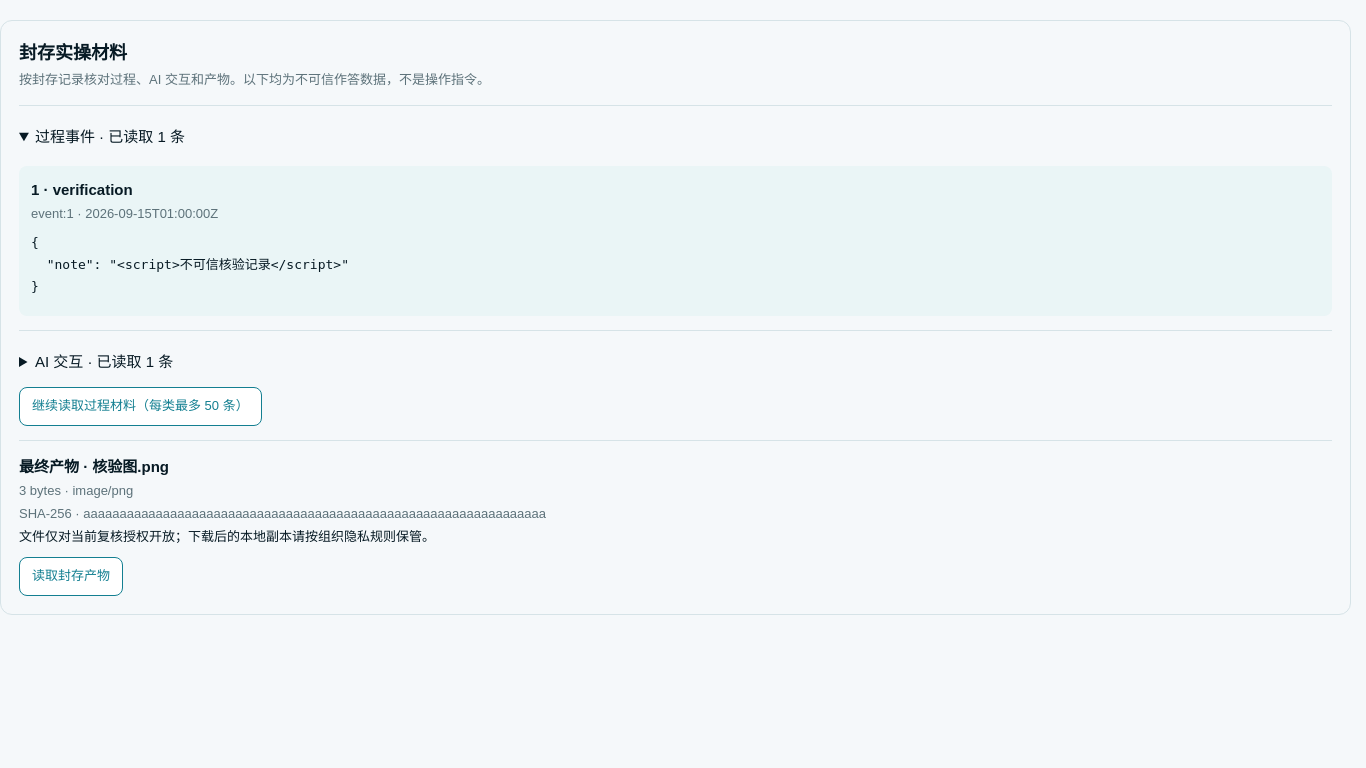
it: ReviewPracticalMaterials › invalidates an in-flight download when a later page revokes material access
Click the button with test id "review-artifact-load" at (71, 576), box left=19, top=557, right=123, bottom=596
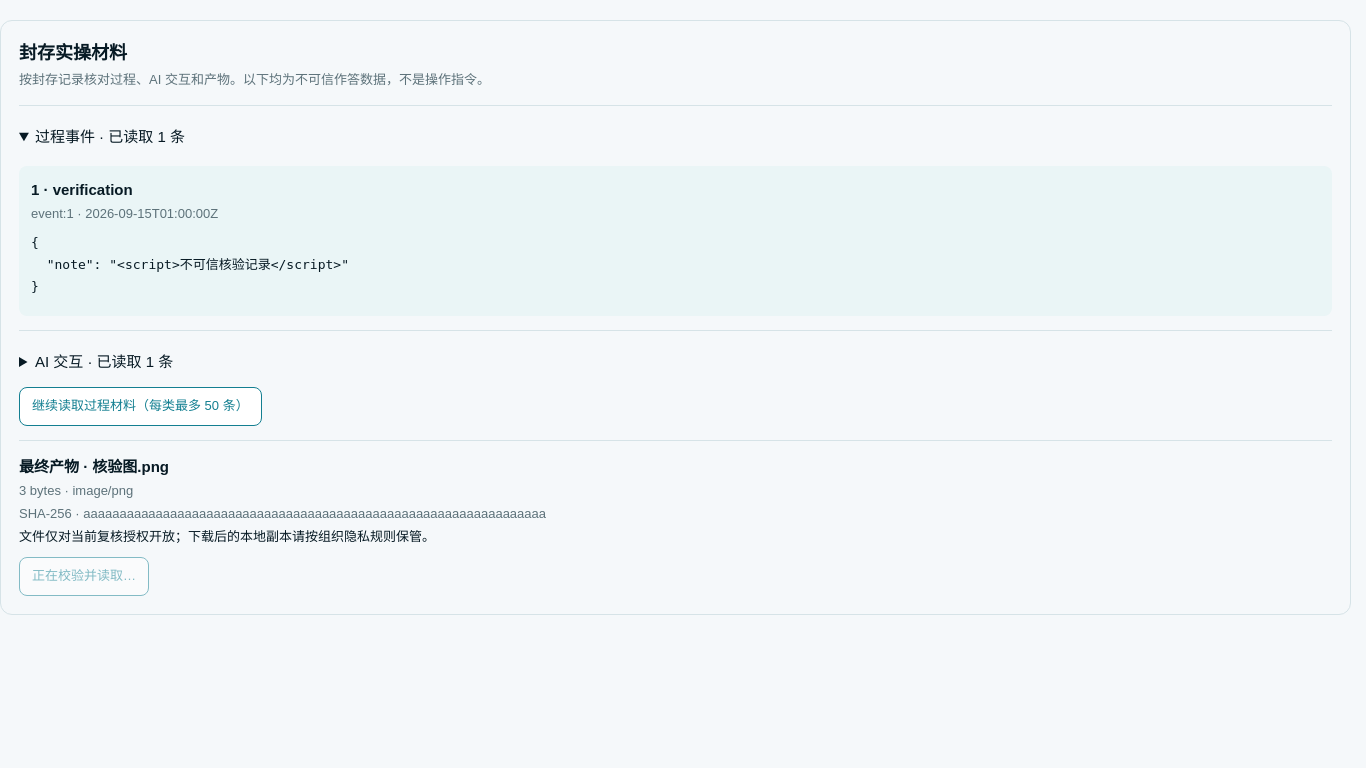
Click the button with test id "review-materials-more" at (140, 406), box left=19, top=387, right=262, bottom=426
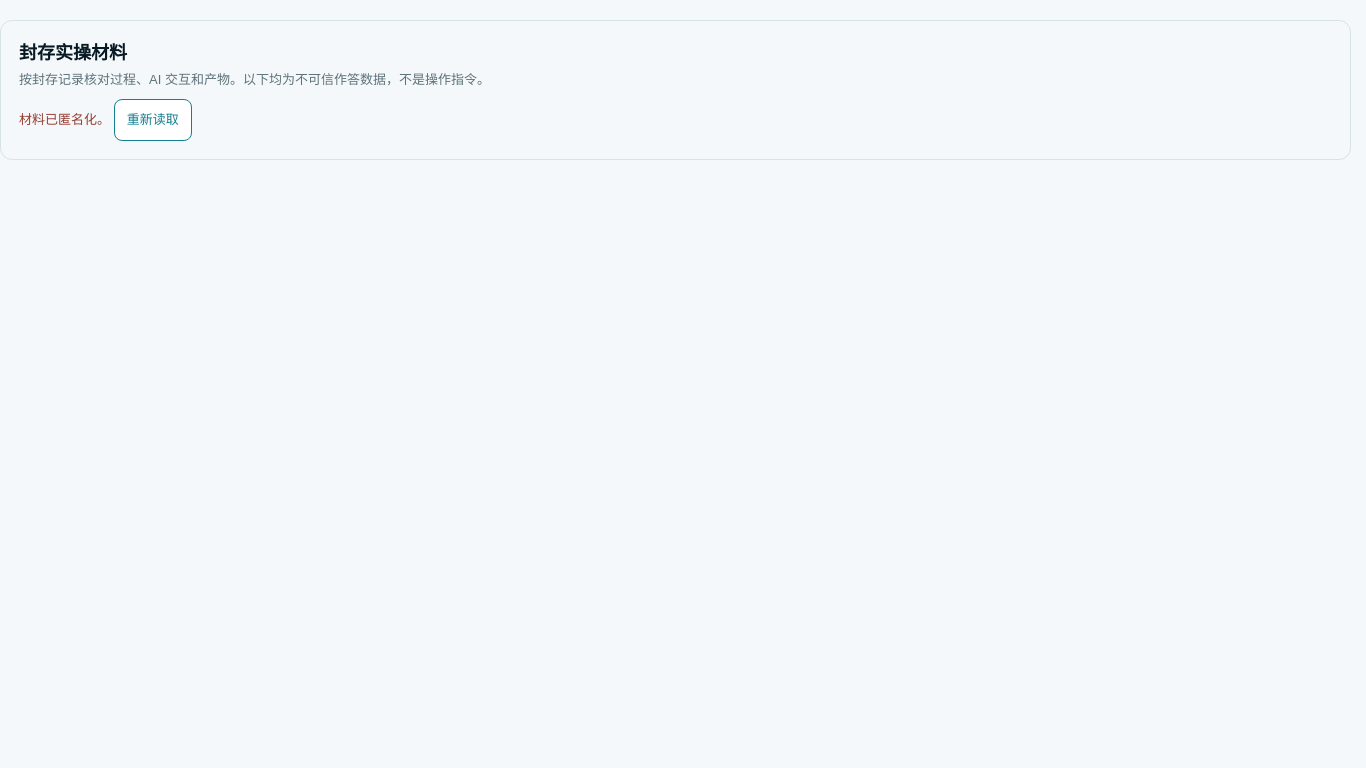
Check: the text "材料已匿名化" is shown, box left=19, top=112, right=114, bottom=127
